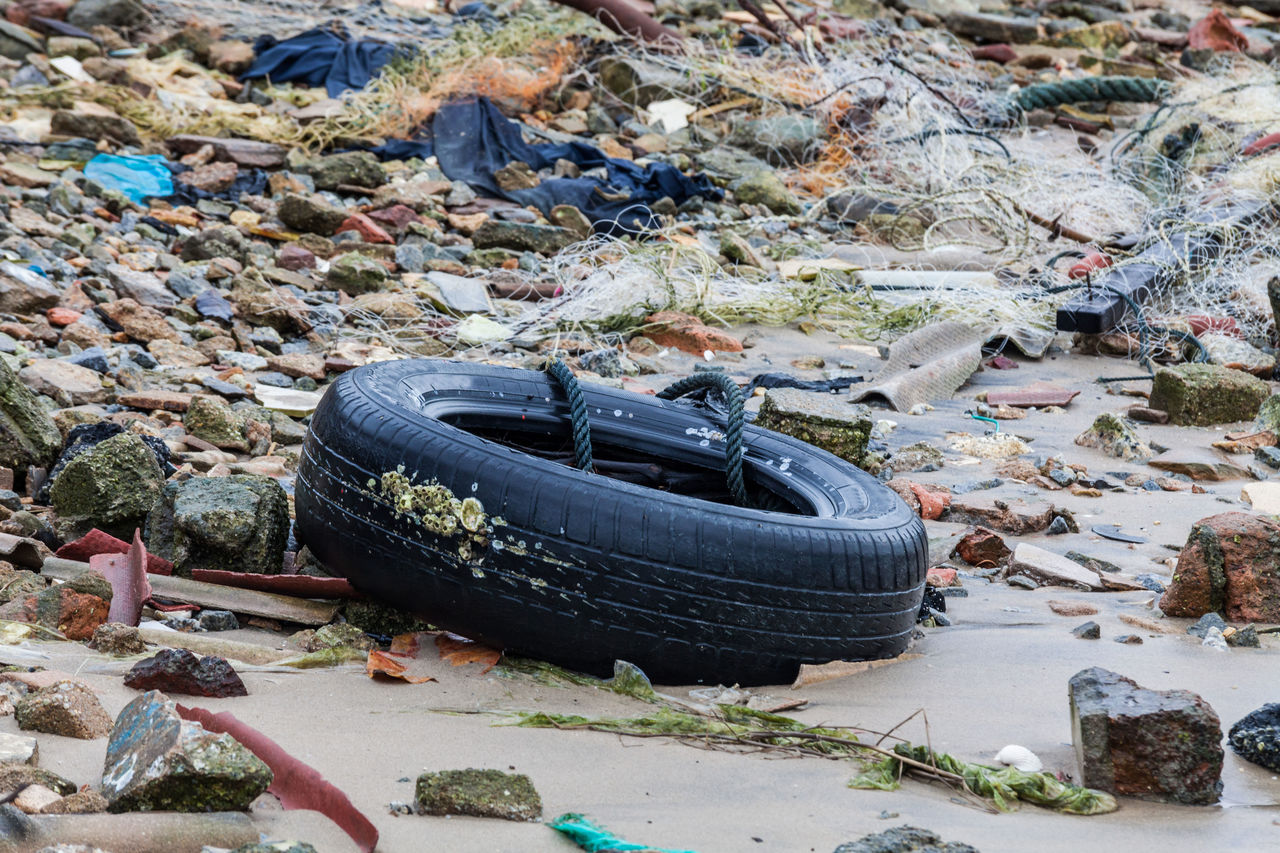tire: (308, 355, 933, 693)
